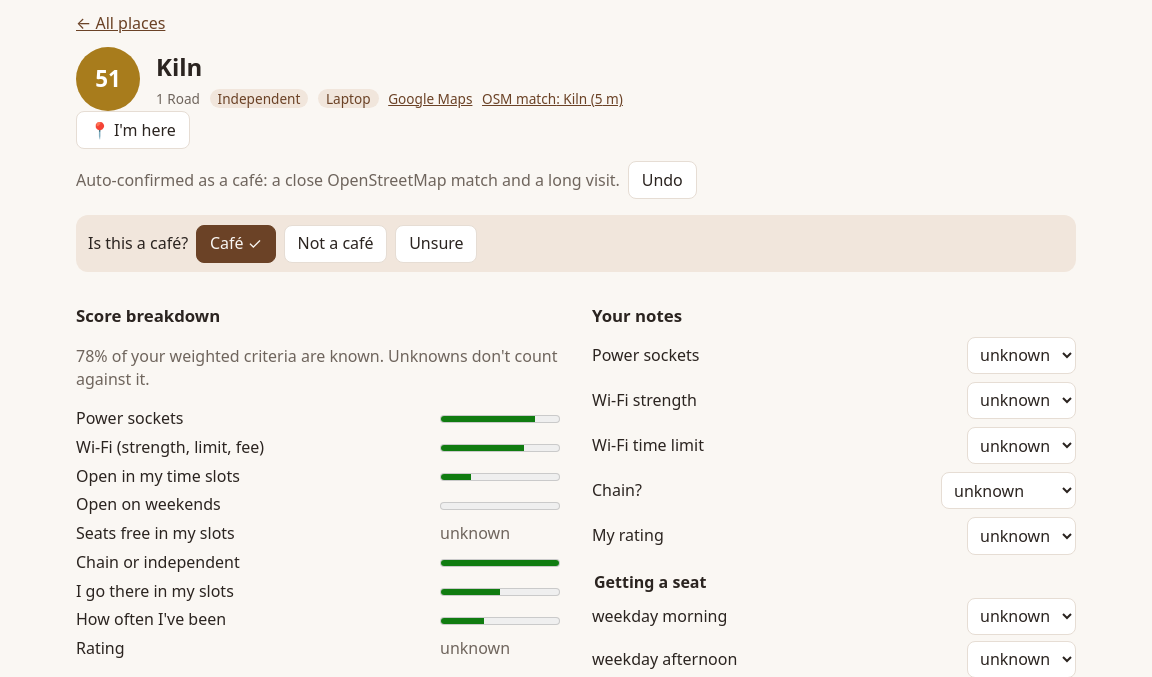
Test: PlaceDetail triage and chains › says a place was auto-confirmed and lets the owner undo it
Click the button "Undo" at (662, 180), box [628,161,697,199]
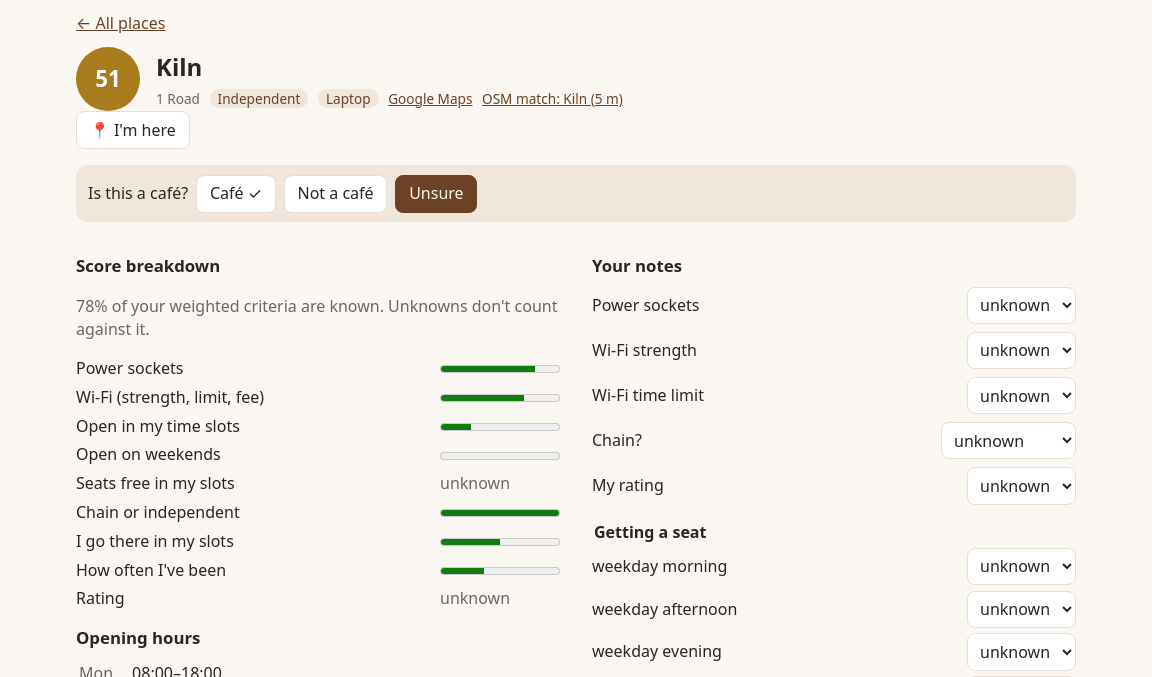
expect the text "Auto-confirmed" is gone: met
